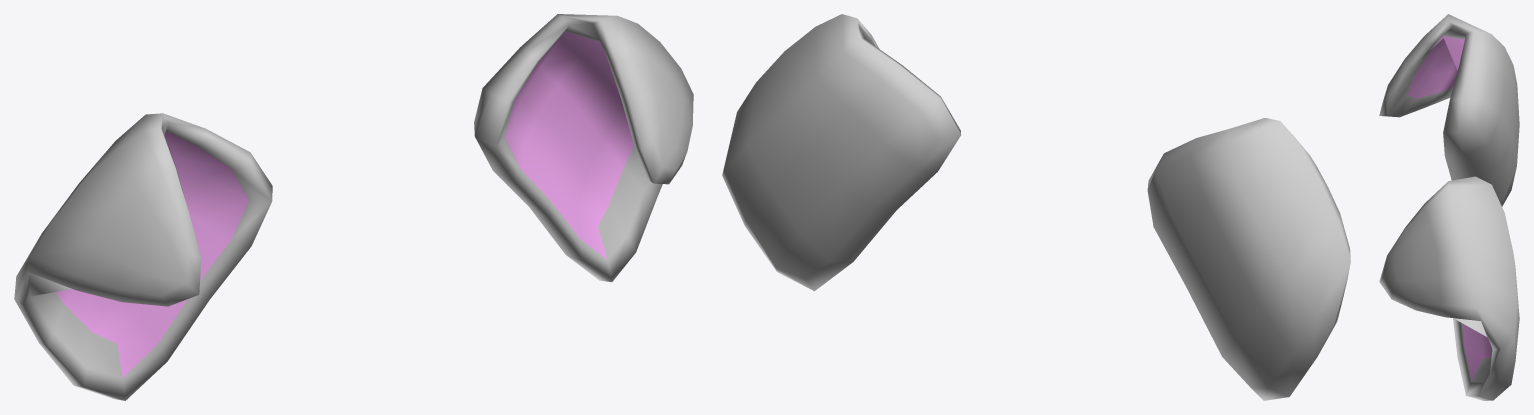
File: foldedEars.obj
The picture shows the model from 3 angles, left to right: view 1: azimuth 30°, elevation 25°; view 2: azimuth 150°, elevation 25°; view 3: azimuth 270°, elevation 25°; orthographic projection. The views are drawn at different scales.
Visible parts, largest first — view 1: Folded_Ears; view 2: Folded_Ears; view 3: Folded_Ears.
Boxes of the visible parts, x1=… form: Folded_Ears: x1=14, y1=14, x2=693, y2=400; Folded_Ears: x1=722, y1=14, x2=1350, y2=400; Folded_Ears: x1=1379, y1=14, x2=1519, y2=400.
Size of the model in its own units: 0.6822 by 0.2789 by 0.1673.
